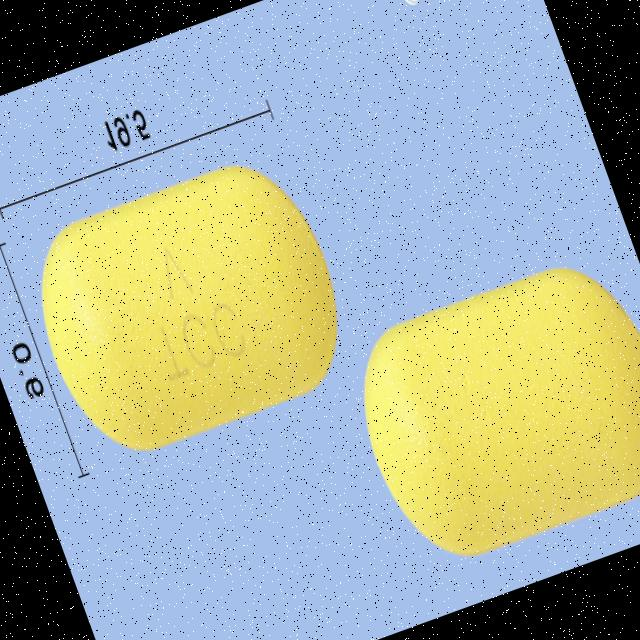Clycin: (13, 145, 367, 474), (336, 248, 640, 578)
